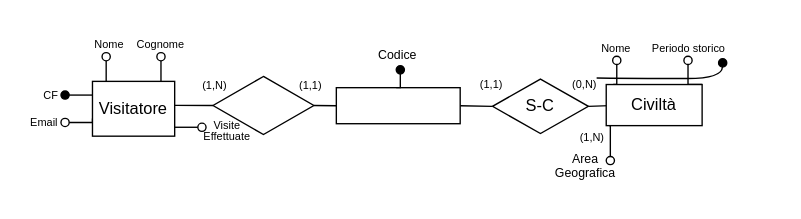
Some shapes in this 801 by 219 pixel diagram are drawn without their labels. Here are the shapes that lost their labels. From the top down, the box of each, then its label:
(212, 75, 314, 135): V-S
(335, 86, 460, 124): Scelta
